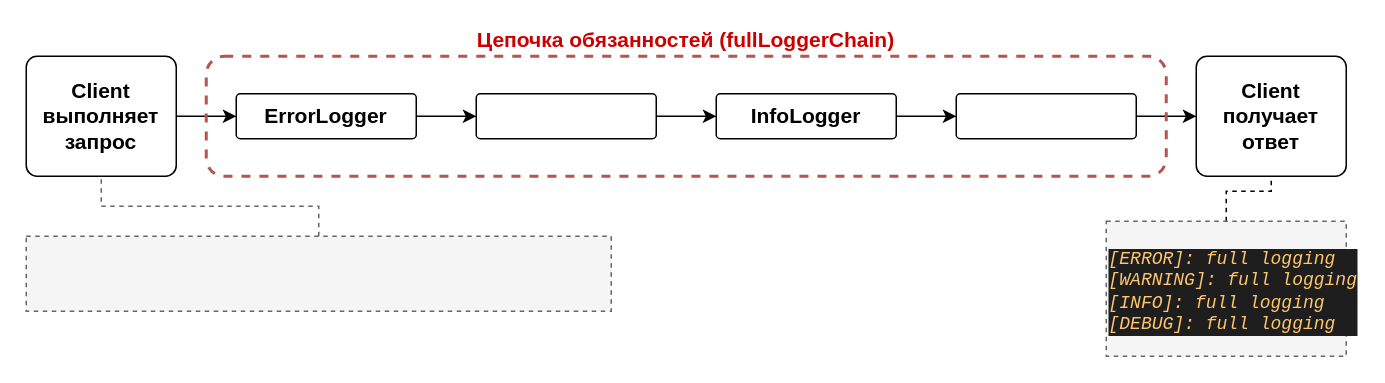
This 1385x383 diagram has some shape labels left out. The shapes that lost their labels are listed below. From the top down, each one's centre as x and y in pixels, then its label:
(565,115): WarningLogger
(1045,115): DebugLogger
(318,273): fullLoggerChain . logMessage ( Logger . DEBUG , "full logging" );
